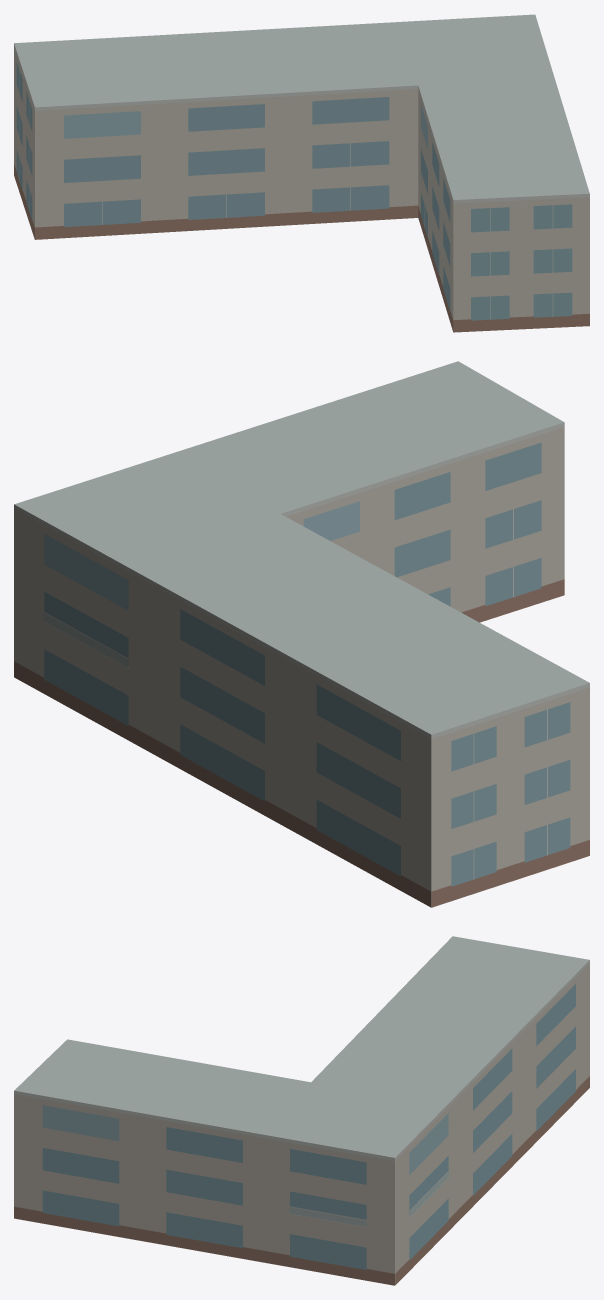
The model's file is survey-upis-32931185.glb.
3 views of the same model, one above another, from view 1: azimuth 30°, elevation 25°; view 2: azimuth 150°, elevation 25°; view 3: azimuth 270°, elevation 25° (orthographic). The views are drawn at different scales.
Parts seen in each view (by area): view 1: survey-upis-32931185.tmp; view 2: survey-upis-32931185.tmp; view 3: survey-upis-32931185.tmp.
Part boxes in pixels (left/top/right/bottom): survey-upis-32931185.tmp: left=14, top=14, right=589, bottom=332; survey-upis-32931185.tmp: left=14, top=361, right=589, bottom=907; survey-upis-32931185.tmp: left=14, top=936, right=589, bottom=1285.
Bounding box in the file's own units: 34.05 × 9.15 × 37.37.
